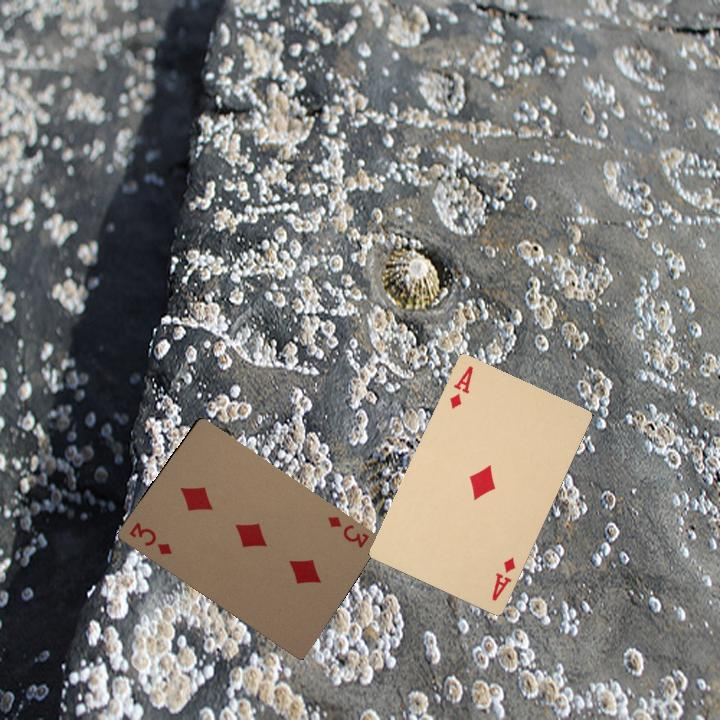3d: (125, 518, 175, 559), (323, 512, 372, 551)
Ad: (488, 554, 518, 604), (446, 362, 476, 411)
